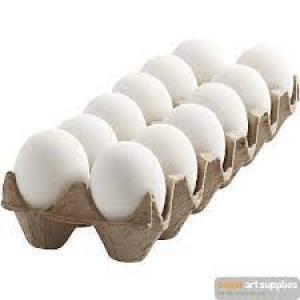Egg: (14, 126, 92, 211), (90, 140, 168, 222), (128, 123, 198, 200), (161, 102, 227, 170), (163, 102, 228, 168), (234, 41, 296, 105), (214, 61, 273, 128), (184, 81, 251, 137), (58, 113, 118, 175), (138, 52, 200, 110), (110, 72, 176, 126), (82, 90, 149, 141), (174, 35, 230, 85)
